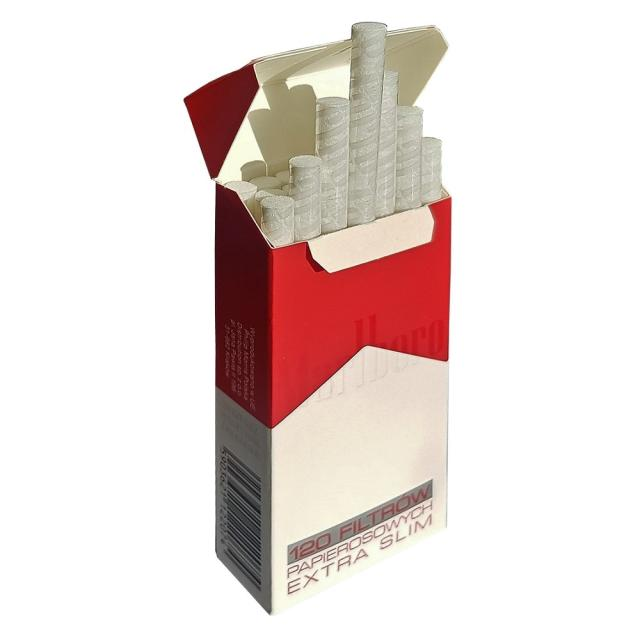marlboro: (179, 16, 462, 628)
